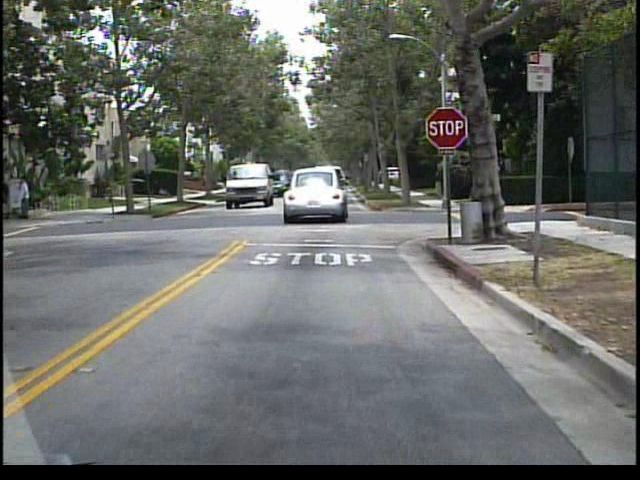person: (20, 170, 36, 223), (1, 172, 16, 219)
